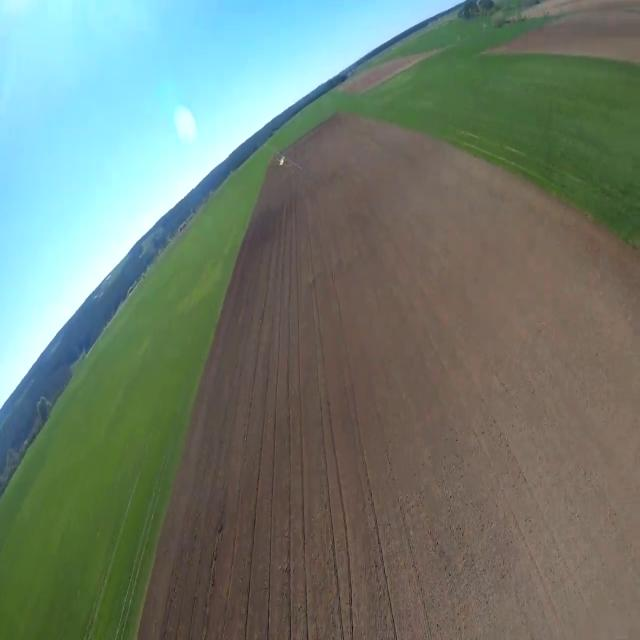iha: (266, 142, 305, 174)
